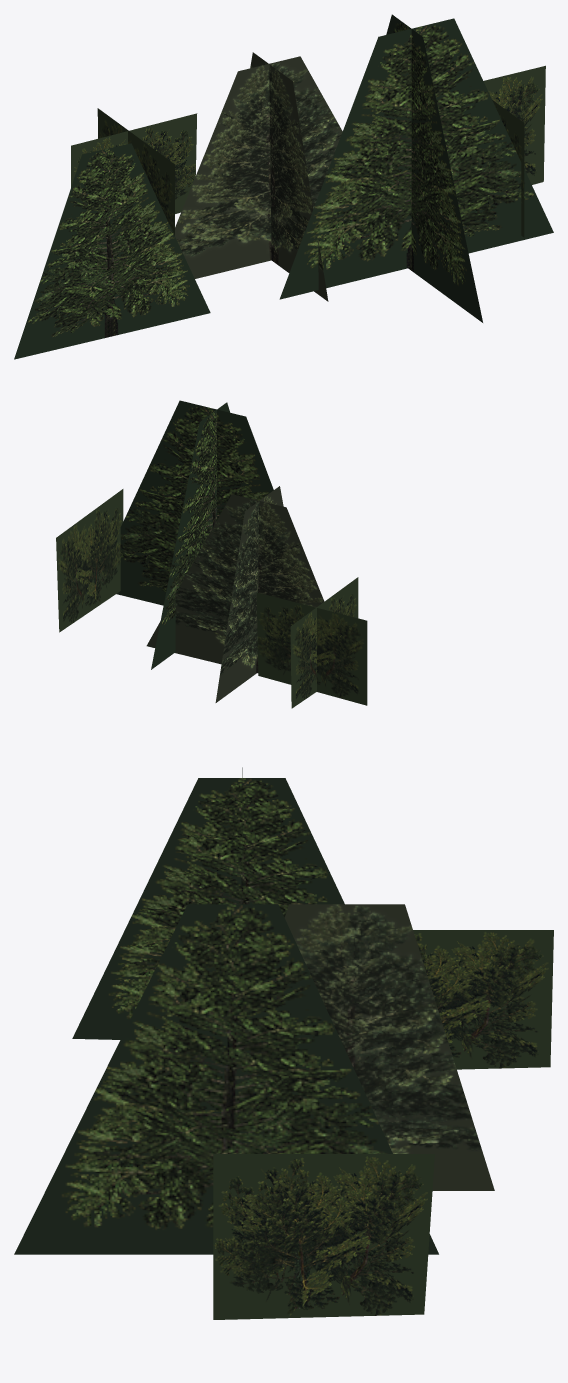
The model's file is mdlTreeFernBillboard.FBX.
3 renders of one model, top to bottom at view 1: azimuth 30°, elevation 25°; view 2: azimuth 150°, elevation 25°; view 3: azimuth 270°, elevation 25°, orthographic. The views are drawn at different scales.
Parts seen in each view (by area): view 1: mdlTreeFernBillboard; view 2: mdlTreeFernBillboard; view 3: mdlTreeFernBillboard.
Boxes of the visible parts, box(x1,y1,x2,y2) form: mdlTreeFernBillboard: box(14, 14, 553, 359); mdlTreeFernBillboard: box(56, 400, 367, 708); mdlTreeFernBillboard: box(14, 767, 553, 1319).
Size of the model in its own units: 3332 by 1351 by 1877.
